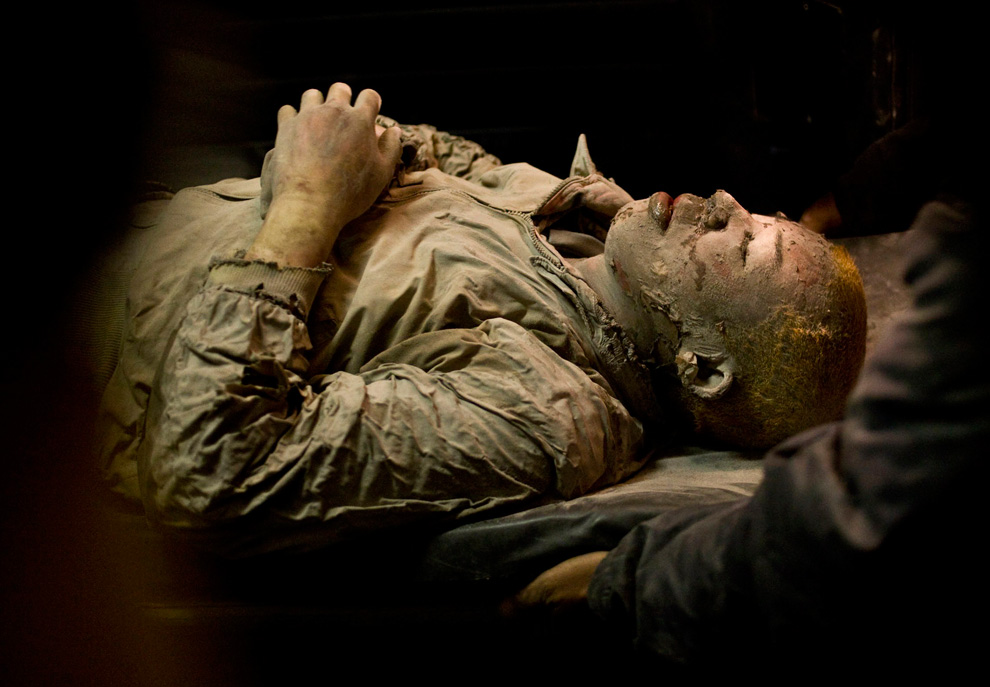Korban: (99, 82, 871, 533)
